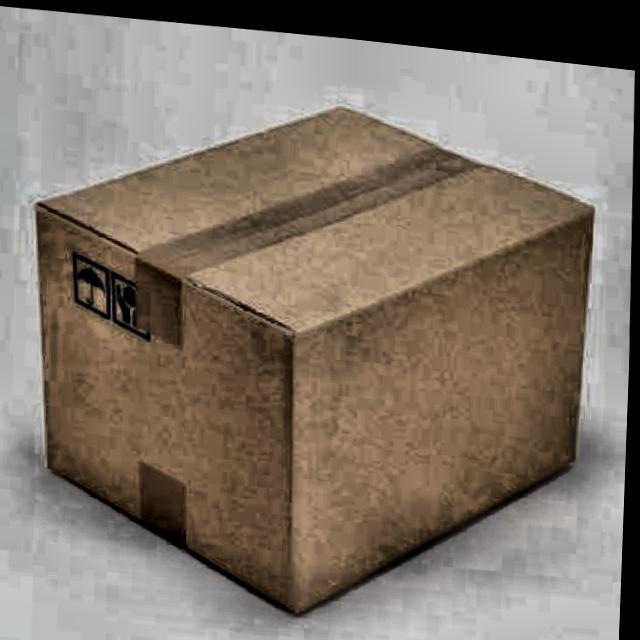Cardbox: (9, 51, 615, 640)
